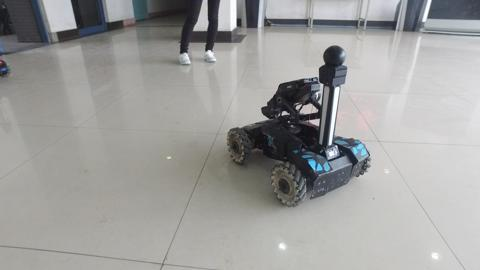chariot: (226, 44, 372, 207)
